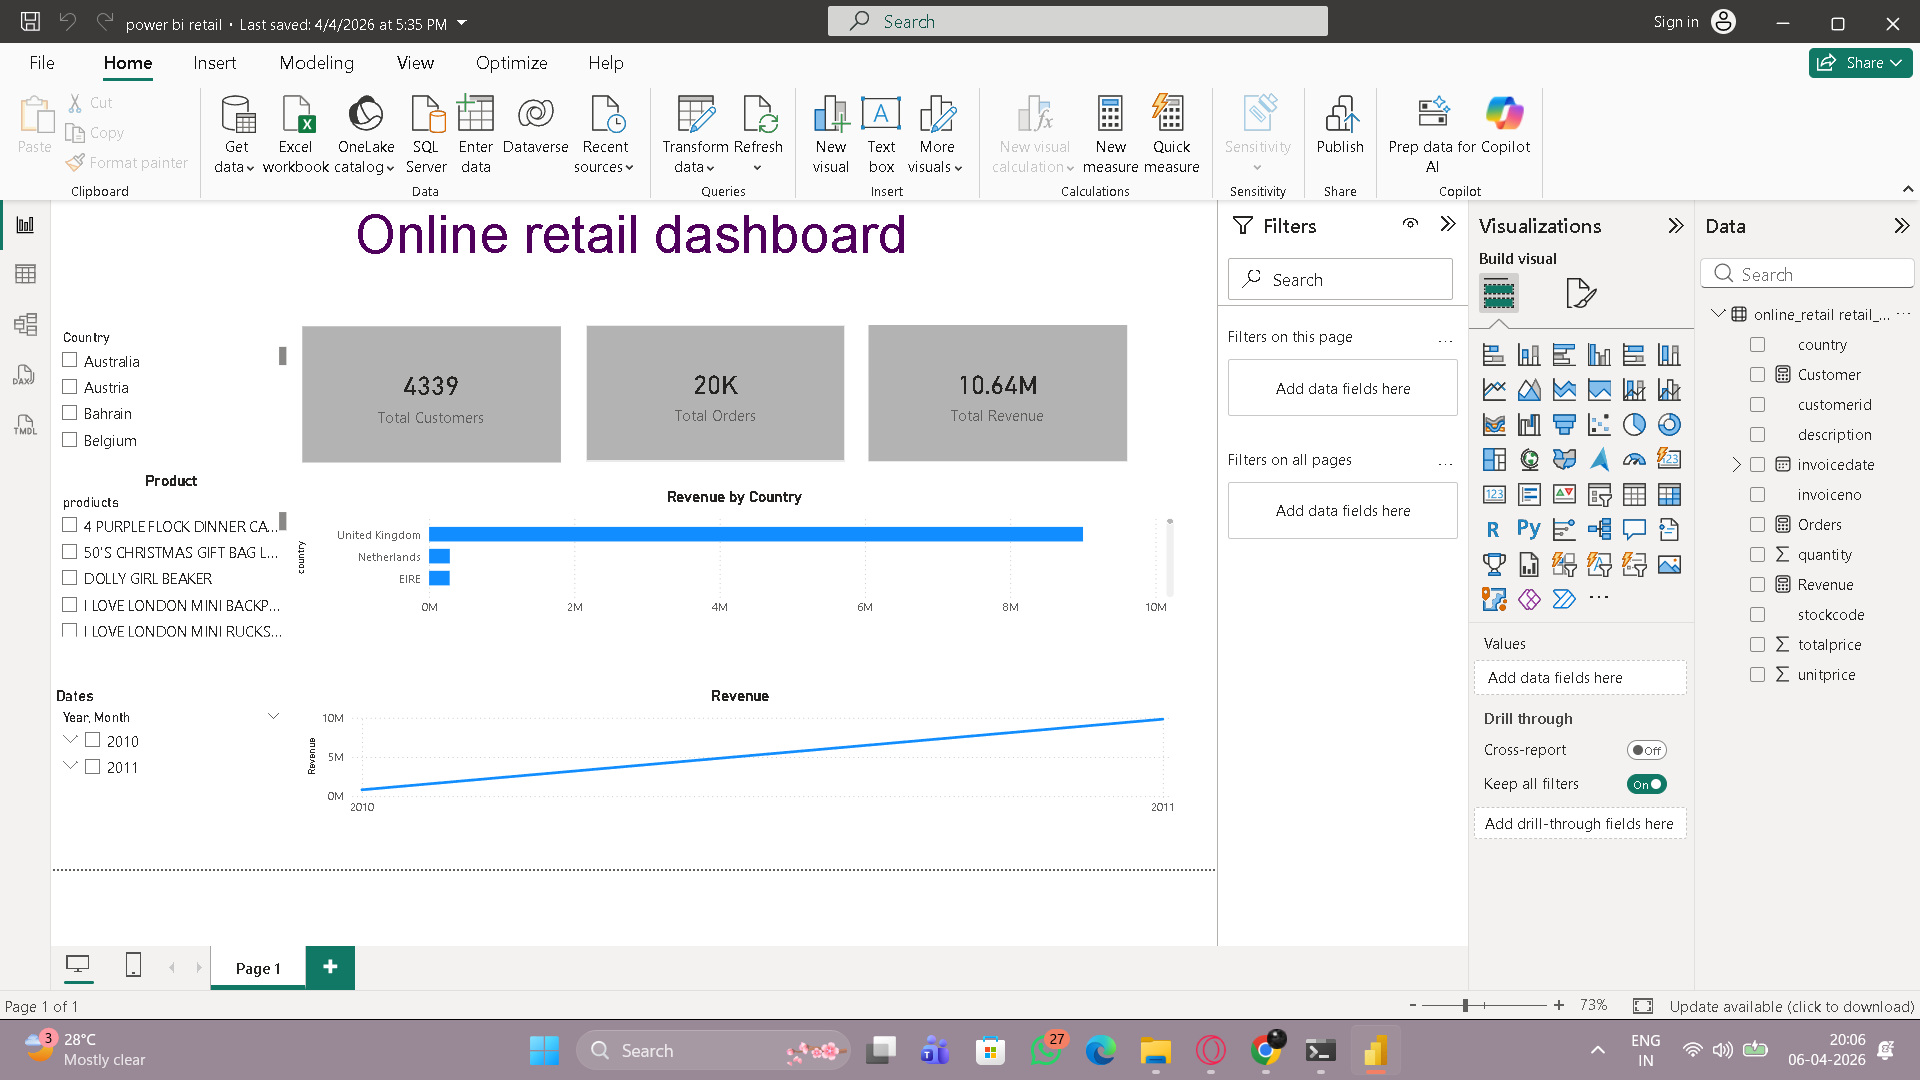

This screenshot's page, from the dashboard's own definition file:
{"tool":"powerbi","page":{"name":"Page 1","canvas":[1280,734],"ordinal":0},"visuals":[{"type":"textbox","box":[9.6,0,1270.7,87.8],"z":0},{"type":"card","fields":{"Values":["online_retail retail_data.Customer"]},"box":[275.8,138.6,284,149.6],"z":2},{"type":"card","fields":{"Values":["online_retail retail_data.Orders"]},"box":[587.3,137.2,284,149.6],"z":3},{"type":"card","fields":{"Values":["online_retail retail_data.Revenue"]},"box":[897.4,137.2,284,149.6],"z":4},{"type":"barChart","title":"Revenue by Country","fields":{"Category":["online_retail retail_data.country"],"Y":["online_retail retail_data.Revenue"]},"box":[263.5,315.6,974.3,149.6],"z":5},{"type":"slicer","fields":{"Values":["online_retail retail_data.country"]},"box":[0,137.2,263.5,149.6],"z":6},{"type":"lineChart","title":"Revenue ","fields":{"Y":["online_retail retail_data.Revenue"],"Category":["online_retail retail_data.invoicedate.Variation.Date Hierarchy.Year","online_retail retail_data.invoicedate.Variation.Date Hierarchy.Month"]},"box":[275.8,533.8,961.9,150.9],"z":7},{"type":"slicer","title":"Product","fields":{"Values":["online_retail retail_data.description"]},"box":[0,297.8,263.5,186.6],"z":8},{"type":"slicer","title":"Dates","fields":{"Values":["online_retail retail_data.invoicedate.Variation.Date Hierarchy.Year","online_retail retail_data.invoicedate.Variation.Date Hierarchy.Month"]},"box":[0,534,263,151],"z":9}]}

Visuals, with their boxes on the page's 1280x734 design canvas (x1, y1, x2, y2). These are canvas units, not pixel positions in the 1920x1080 screenshot, which may show the page scaled, cropped or inside an application window:
textbox: left=10, top=0, right=1280, bottom=88
card - online_retail retail_data.Customer: left=276, top=139, right=560, bottom=288
card - online_retail retail_data.Orders: left=587, top=137, right=871, bottom=287
card - online_retail retail_data.Revenue: left=897, top=137, right=1181, bottom=287
"Revenue by Country" barChart: left=264, top=316, right=1238, bottom=465
slicer - online_retail retail_data.country: left=0, top=137, right=264, bottom=287
"Revenue " lineChart: left=276, top=534, right=1238, bottom=685
"Product" slicer: left=0, top=298, right=264, bottom=484
"Dates" slicer: left=0, top=534, right=263, bottom=685
